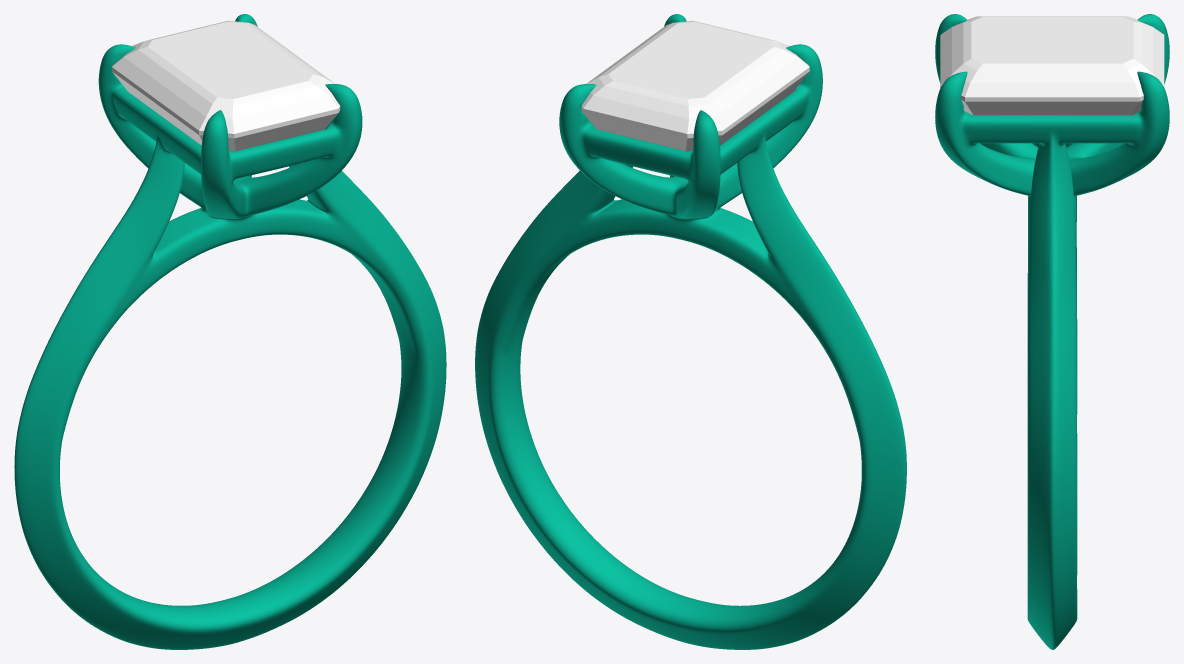
File: BE1524_EM_200ct_RENDER.glb
3 views of the same model, side by side, from view 1: azimuth 30°, elevation 25°; view 2: azimuth 150°, elevation 25°; view 3: azimuth 270°, elevation 25° (orthographic).
Visible parts, largest first — view 1: Metal 01, CS_Diamond_Emerald; view 2: Metal 01, CS_Diamond_Emerald; view 3: Metal 01, CS_Diamond_Emerald.
Part boxes in pixels (x1=…): Metal 01: x1=14, y1=14, x2=446, y2=649; CS_Diamond_Emerald: x1=112, y1=20, x2=340, y2=150; Metal 01: x1=475, y1=14, x2=906, y2=649; CS_Diamond_Emerald: x1=581, y1=20, x2=809, y2=150; Metal 01: x1=935, y1=14, x2=1169, y2=649; CS_Diamond_Emerald: x1=940, y1=16, x2=1164, y2=114.
Size of the model in its own units: 20.08 by 25.97 by 9.43.
